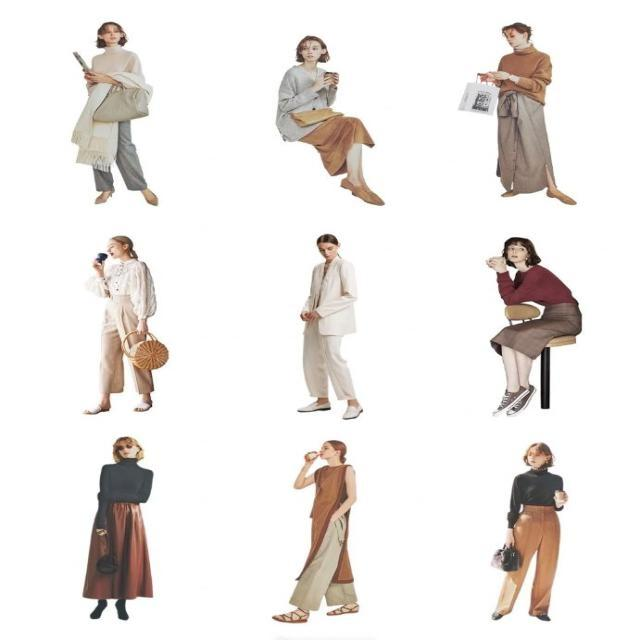obstacle: (504, 302, 577, 410)
person: (275, 35, 385, 206), (476, 22, 577, 205), (485, 236, 582, 416), (70, 21, 158, 206), (272, 440, 360, 624), (491, 442, 568, 621), (82, 436, 154, 620), (82, 235, 156, 414), (296, 233, 363, 420)
